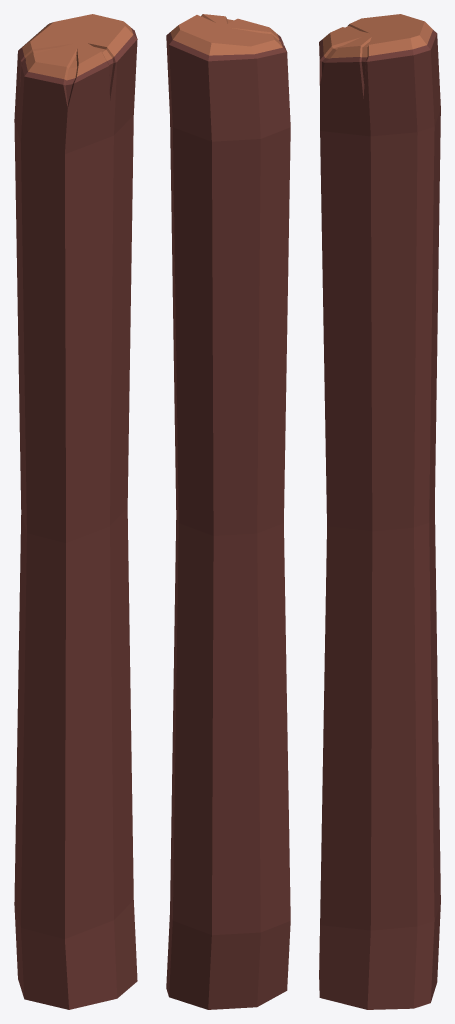
File: Wooden Pole Blunt 12.fbx
3 views of the same model, side by side, from view 1: azimuth 30°, elevation 25°; view 2: azimuth 210°, elevation 25°; view 3: azimuth 330°, elevation 25° (orthographic).
Parts seen in each view (by area): view 1: Wooden Pole Blunt 12; view 2: Wooden Pole Blunt 12; view 3: Wooden Pole Blunt 12.
Part boxes in pixels (x1=…): Wooden Pole Blunt 12: x1=14, y1=14, x2=137, y2=1009; Wooden Pole Blunt 12: x1=166, y1=14, x2=290, y2=1009; Wooden Pole Blunt 12: x1=319, y1=14, x2=440, y2=1009.
Size of the model in its own units: 32.75 by 270 by 29.84.
